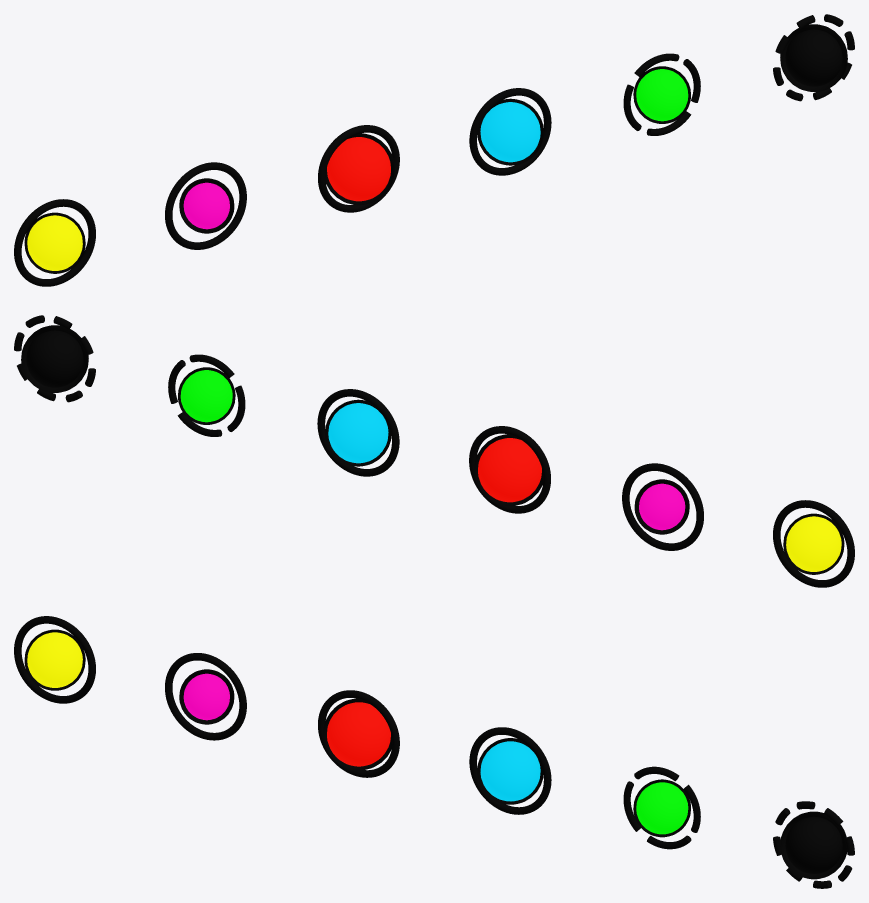
Rendered from orbs.fbx.
The picture shows the model from 3 angles, top to bottom: view 1: azimuth 30°, elevation 25°; view 2: azimuth 150°, elevation 25°; view 3: azimuth 330°, elevation 25°; orthographic projection.
Parts seen in each view (by area): view 1: Sphere.002_4, Sphere.005_10, Sphere.003_6, Sphere_0, Sphere.004_8, Sphere.001_2, Torus.001_3, Torus_1, Torus.003_7, Torus.002_5, Torus.004_9, Torus.005_11; view 2: Sphere.002_4, Sphere.005_10, Sphere.003_6, Sphere_0, Sphere.004_8, Sphere.001_2, Torus.001_3, Torus_1, Torus.003_7, Torus.002_5, Torus.004_9, Torus.005_11; view 3: Sphere.002_4, Sphere.005_10, Sphere.003_6, Sphere_0, Sphere.004_8, Sphere.001_2, Torus.001_3, Torus_1, Torus.003_7, Torus.002_5, Torus.004_9, Torus.005_11.
Part boxes in pixels (x1,y1,x2,y2): Sphere.002_4: [325, 133, 394, 205]; Sphere.005_10: [780, 24, 847, 91]; Sphere.003_6: [477, 98, 543, 165]; Sphere_0: [24, 212, 85, 273]; Sphere.004_8: [633, 66, 690, 123]; Sphere.001_2: [179, 178, 234, 233]; Torus.001_3: [165, 162, 246, 249]; Torus_1: [14, 199, 95, 286]; Torus.003_7: [469, 88, 551, 175]; Torus.002_5: [318, 125, 399, 212]; Torus.004_9: [623, 53, 700, 135]; Torus.005_11: [773, 14, 854, 101]; Sphere.002_4: [474, 434, 543, 506]; Sphere.005_10: [21, 325, 88, 392]; Sphere.003_6: [325, 399, 391, 466]; Sphere_0: [783, 513, 844, 574]; Sphere.004_8: [178, 367, 235, 424]; Sphere.001_2: [634, 479, 689, 534]; Torus.001_3: [622, 463, 703, 550]; Torus_1: [773, 500, 854, 587]; Torus.003_7: [317, 389, 399, 476]; Torus.002_5: [469, 426, 550, 513]; Torus.004_9: [168, 354, 245, 436]; Torus.005_11: [14, 315, 95, 402]; Sphere.002_4: [323, 698, 392, 770]; Sphere.005_10: [780, 811, 847, 879]; Sphere.003_6: [477, 738, 543, 804]; Sphere_0: [24, 629, 85, 690]; Sphere.004_8: [633, 779, 690, 837]; Sphere.001_2: [179, 669, 234, 724]; Torus.001_3: [165, 653, 246, 740]; Torus_1: [14, 616, 95, 703]; Torus.003_7: [469, 727, 551, 814]; Torus.002_5: [318, 690, 399, 777]; Torus.004_9: [623, 766, 700, 849]; Torus.005_11: [773, 801, 854, 888].
Size of the model in its own units: 834 by 80.81 by 62.09.
